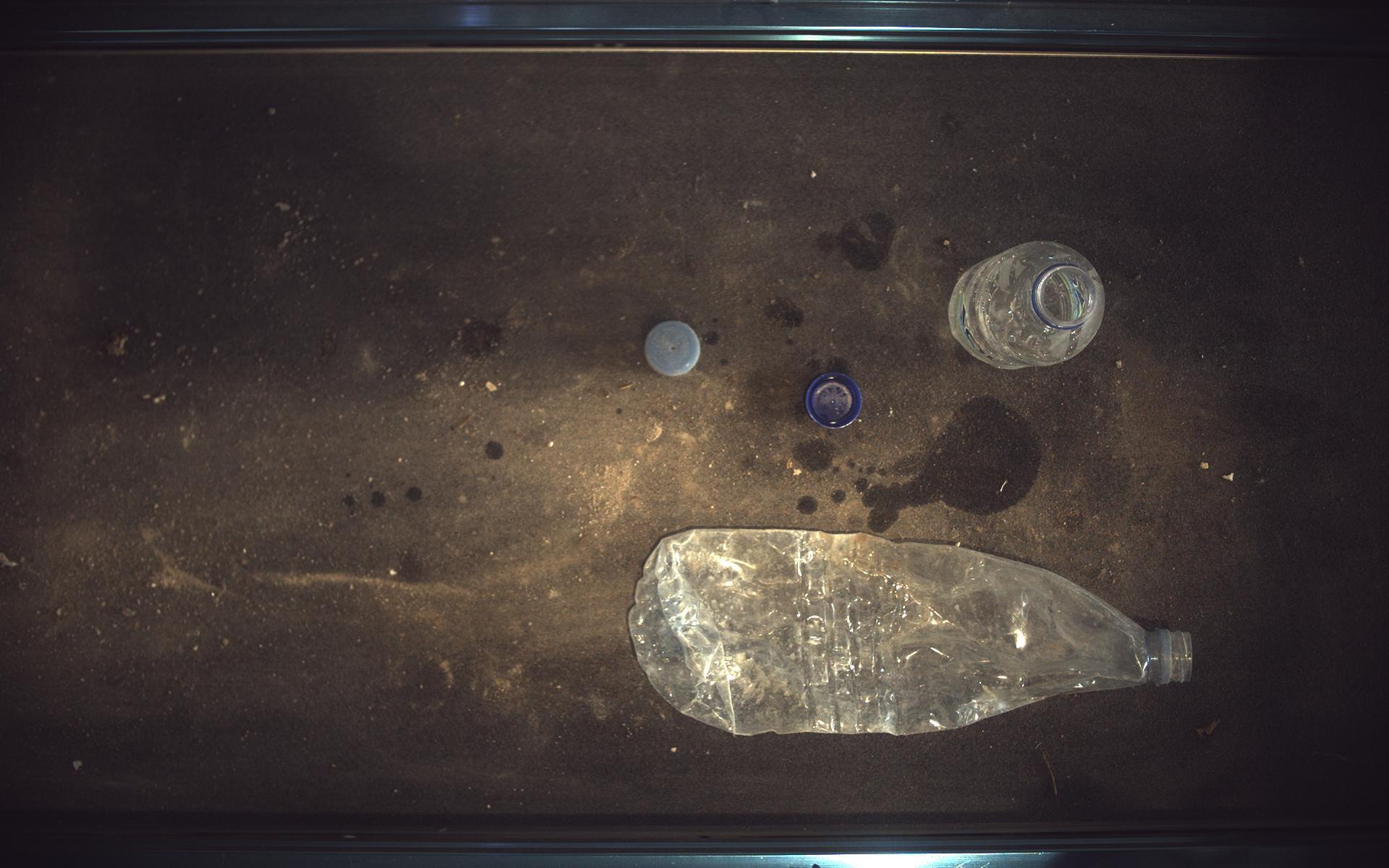general_w: (629, 529, 1194, 736), (951, 241, 1108, 369), (807, 372, 864, 429), (646, 320, 701, 376)
